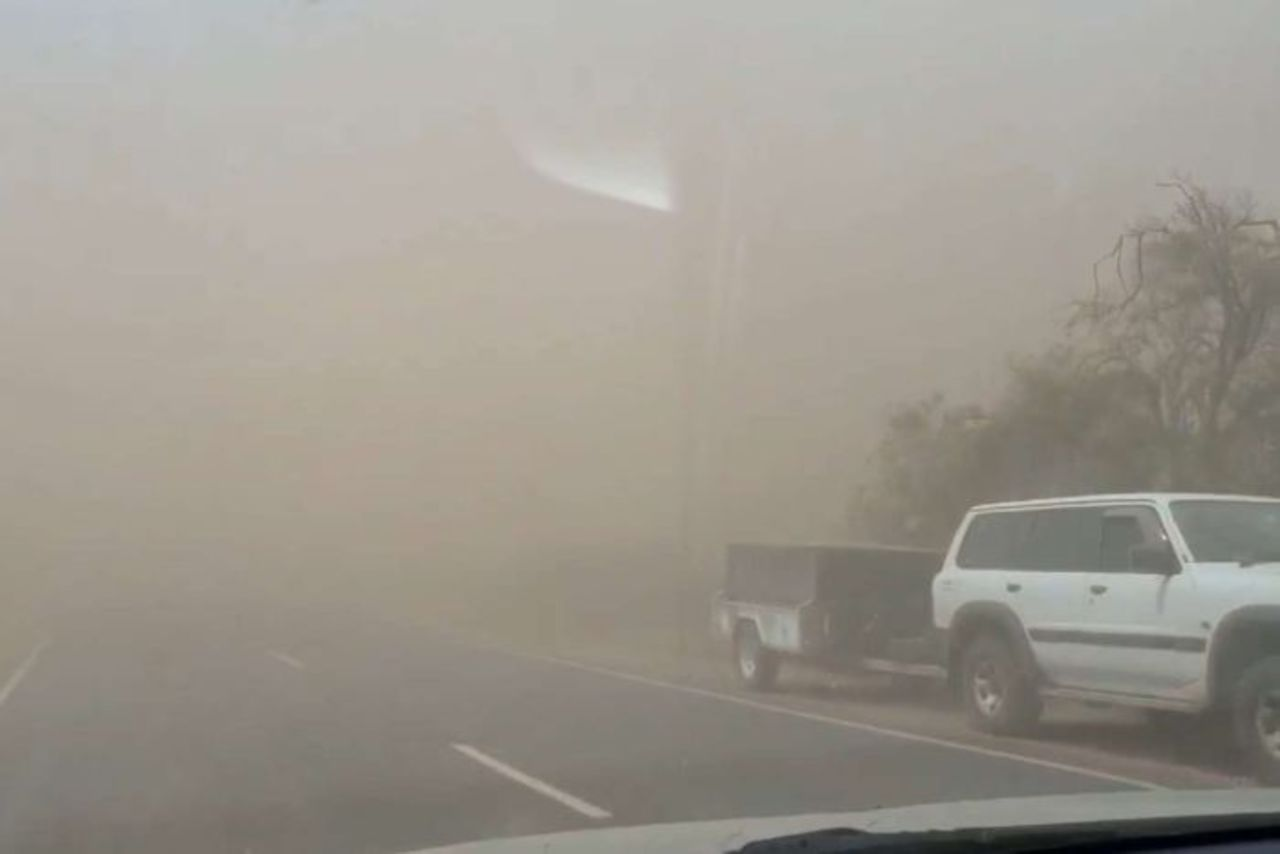car: (938, 474, 1274, 792)
